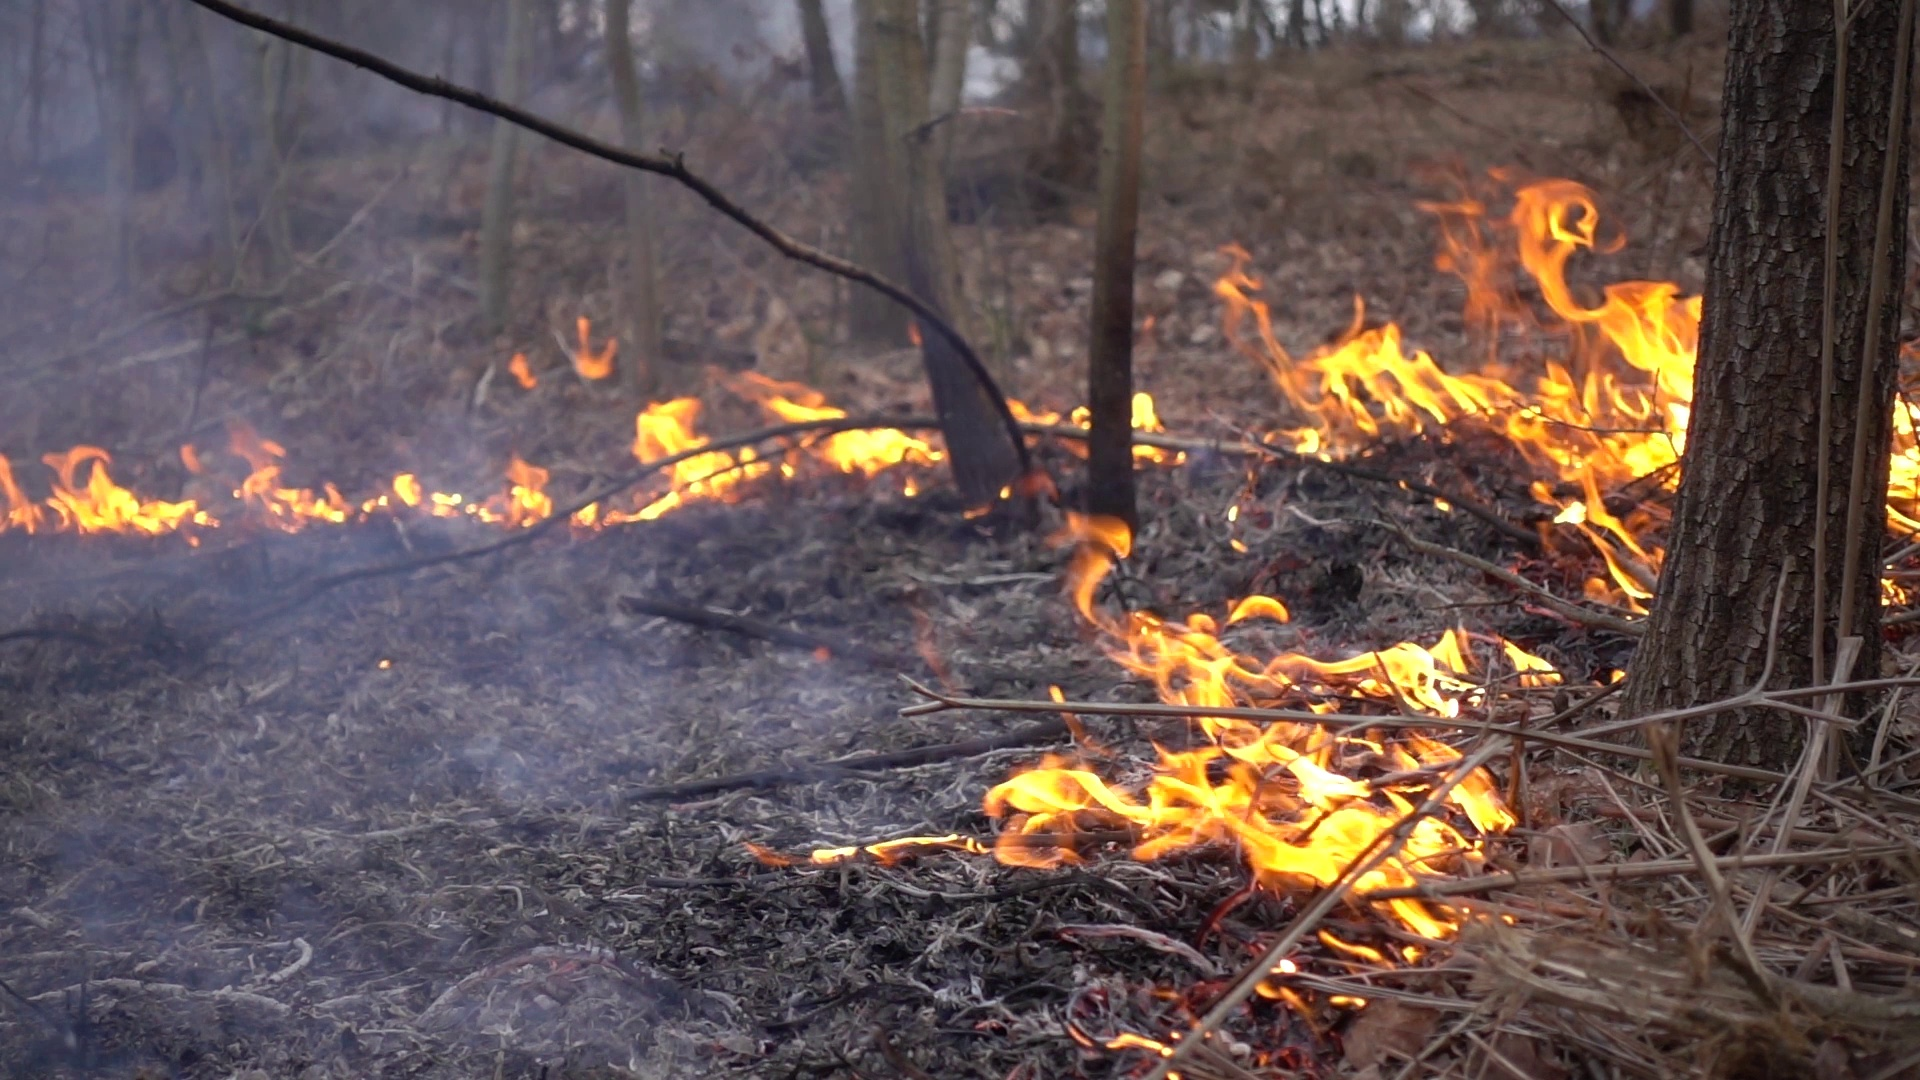fire: (985, 563, 1511, 942), (1275, 181, 1698, 589), (1, 447, 345, 531), (571, 405, 760, 535), (742, 375, 936, 488), (386, 463, 553, 527), (1886, 404, 1920, 527), (1131, 394, 1156, 435)
